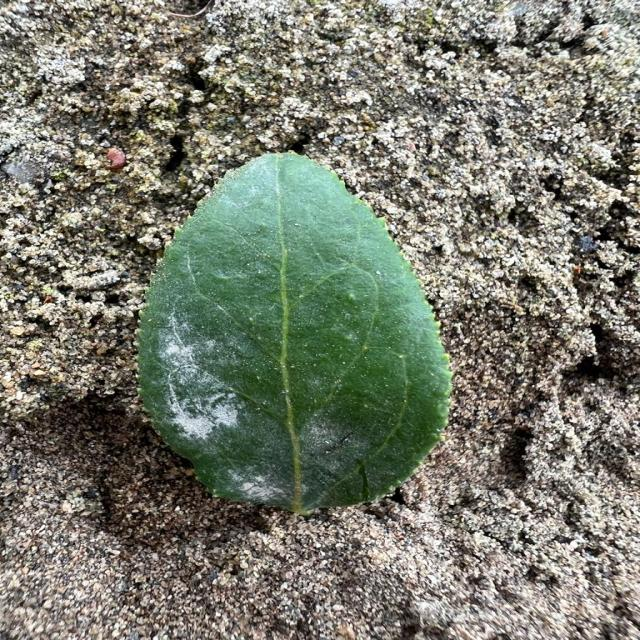Hojas con oidiosis: (132, 150, 454, 517)
